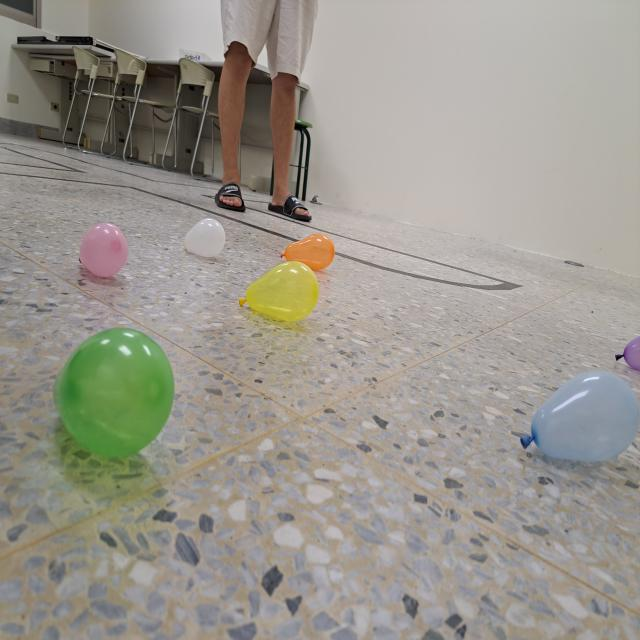other: (52, 327, 175, 458), (520, 371, 640, 464), (239, 260, 319, 321), (78, 222, 128, 280), (281, 232, 334, 270), (183, 218, 225, 257), (615, 334, 640, 369)
